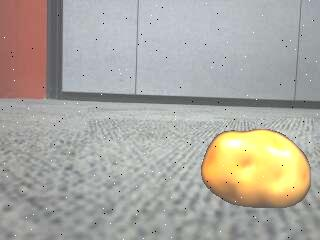Potato: (200, 129, 312, 210)
